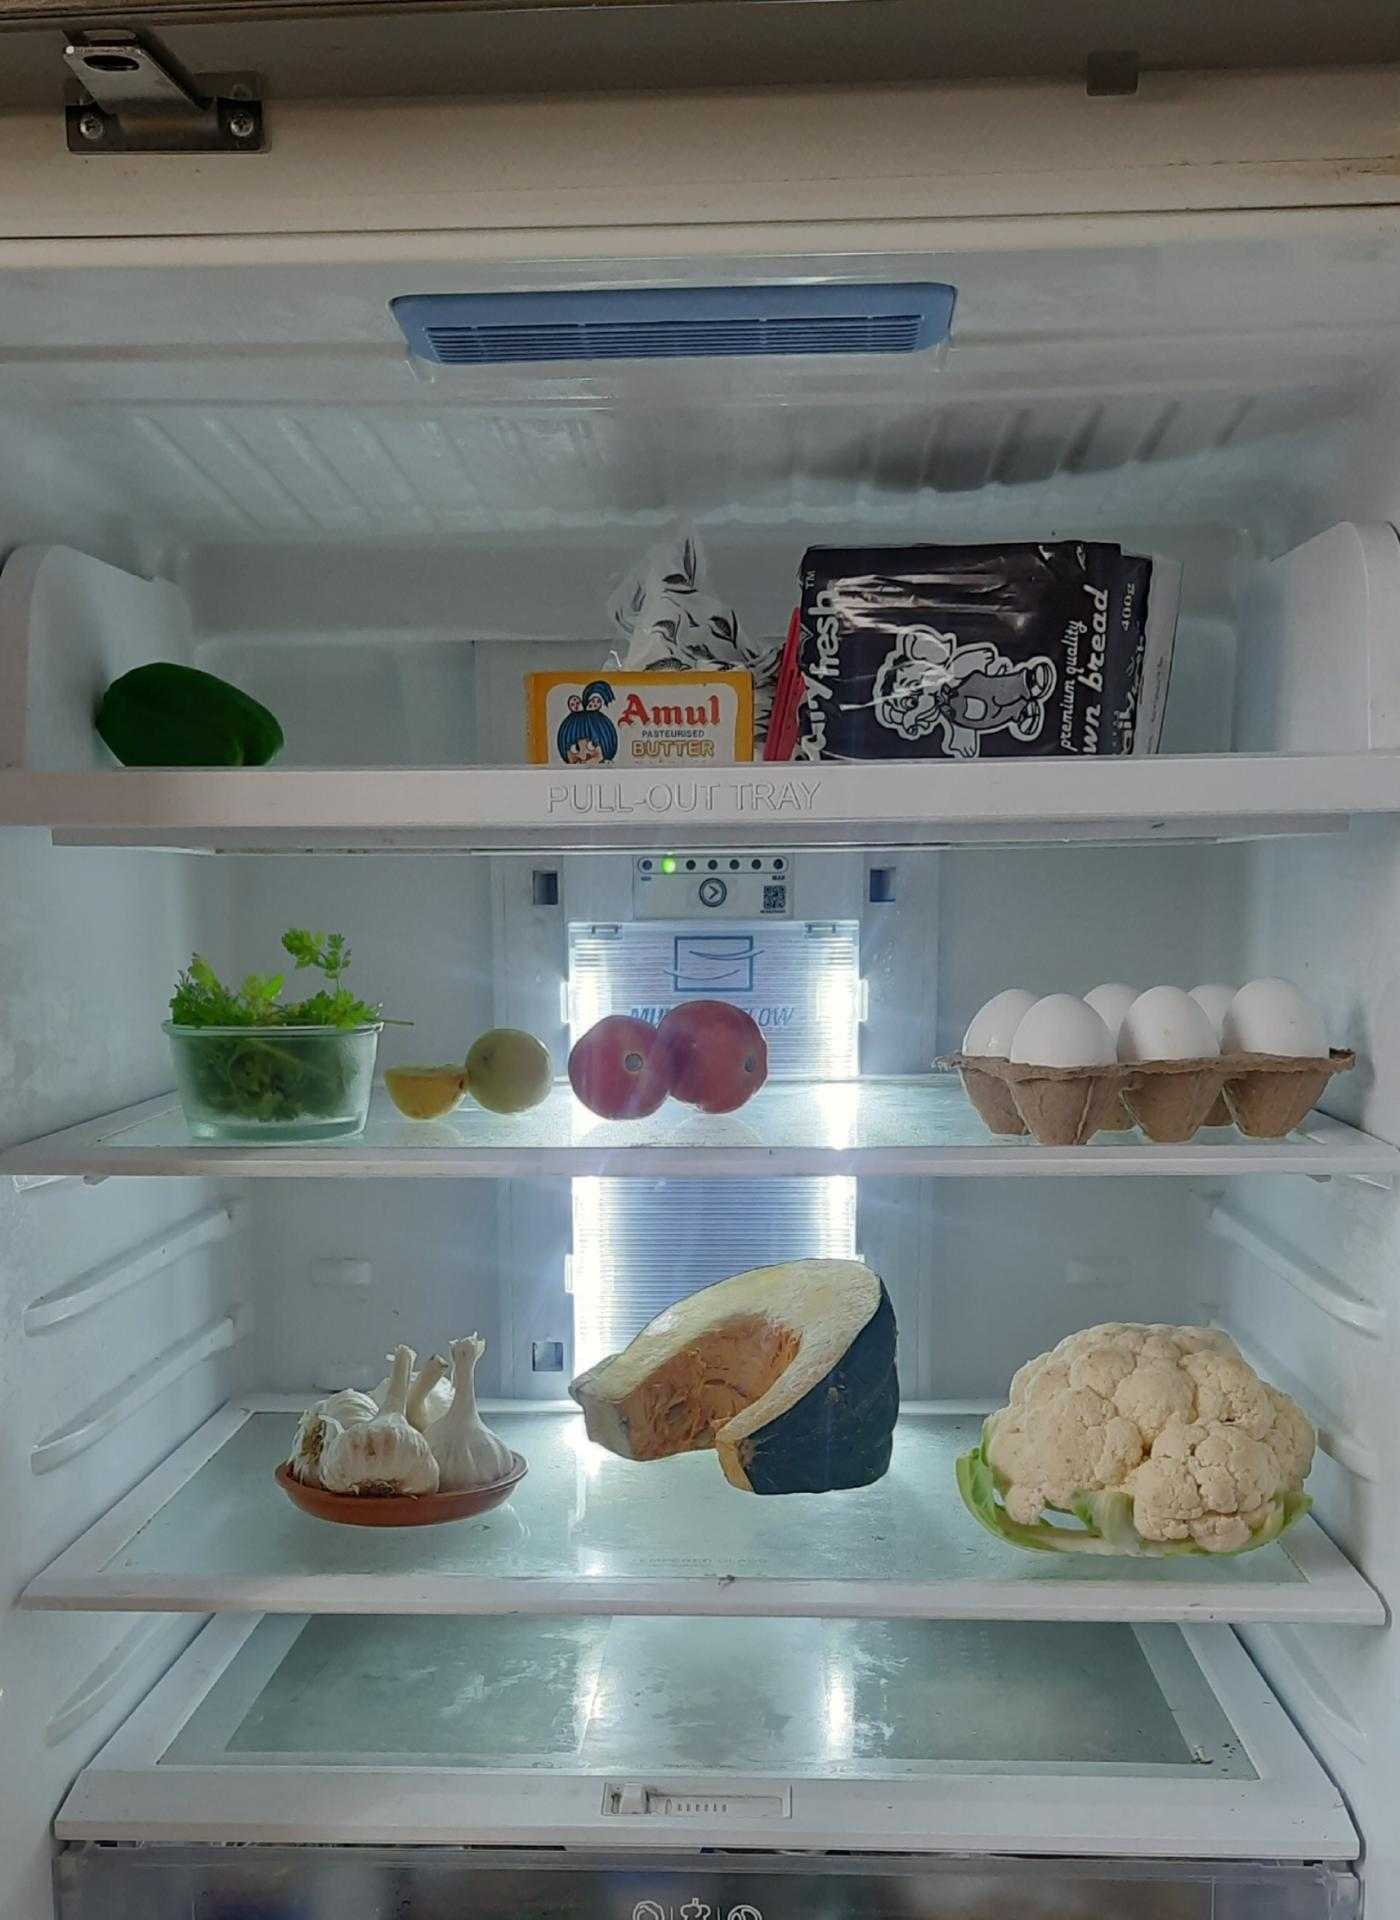bread: (649, 544, 1160, 762)
butter: (529, 666, 763, 763)
capsicum: (92, 656, 291, 769)
cauliflower: (969, 1313, 1319, 1546)
coriander: (173, 932, 376, 1134)
egg: (984, 973, 1340, 1066)
garlic: (289, 1325, 511, 1509)
lemon: (386, 1020, 552, 1112)
pumpkin: (574, 1261, 906, 1503)
tomato: (570, 994, 768, 1115)
